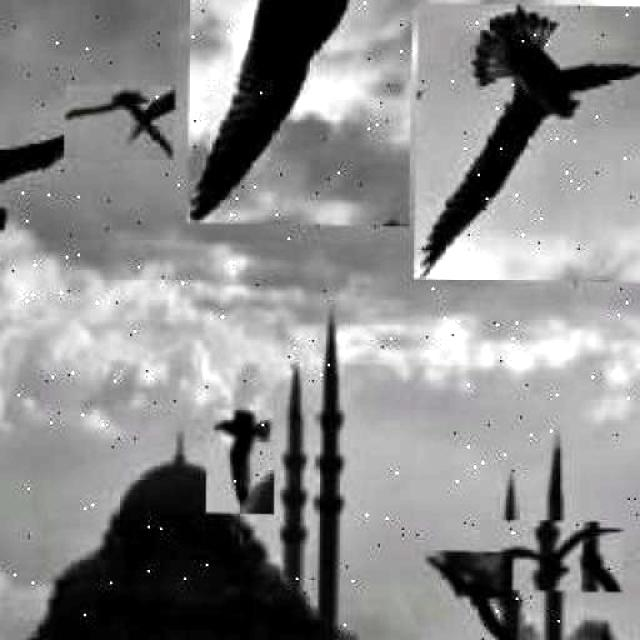airplane: (414, 1, 640, 282), (185, 0, 415, 226), (0, 94, 108, 266), (478, 519, 624, 592), (62, 84, 174, 160), (422, 551, 512, 640), (206, 409, 276, 515)
